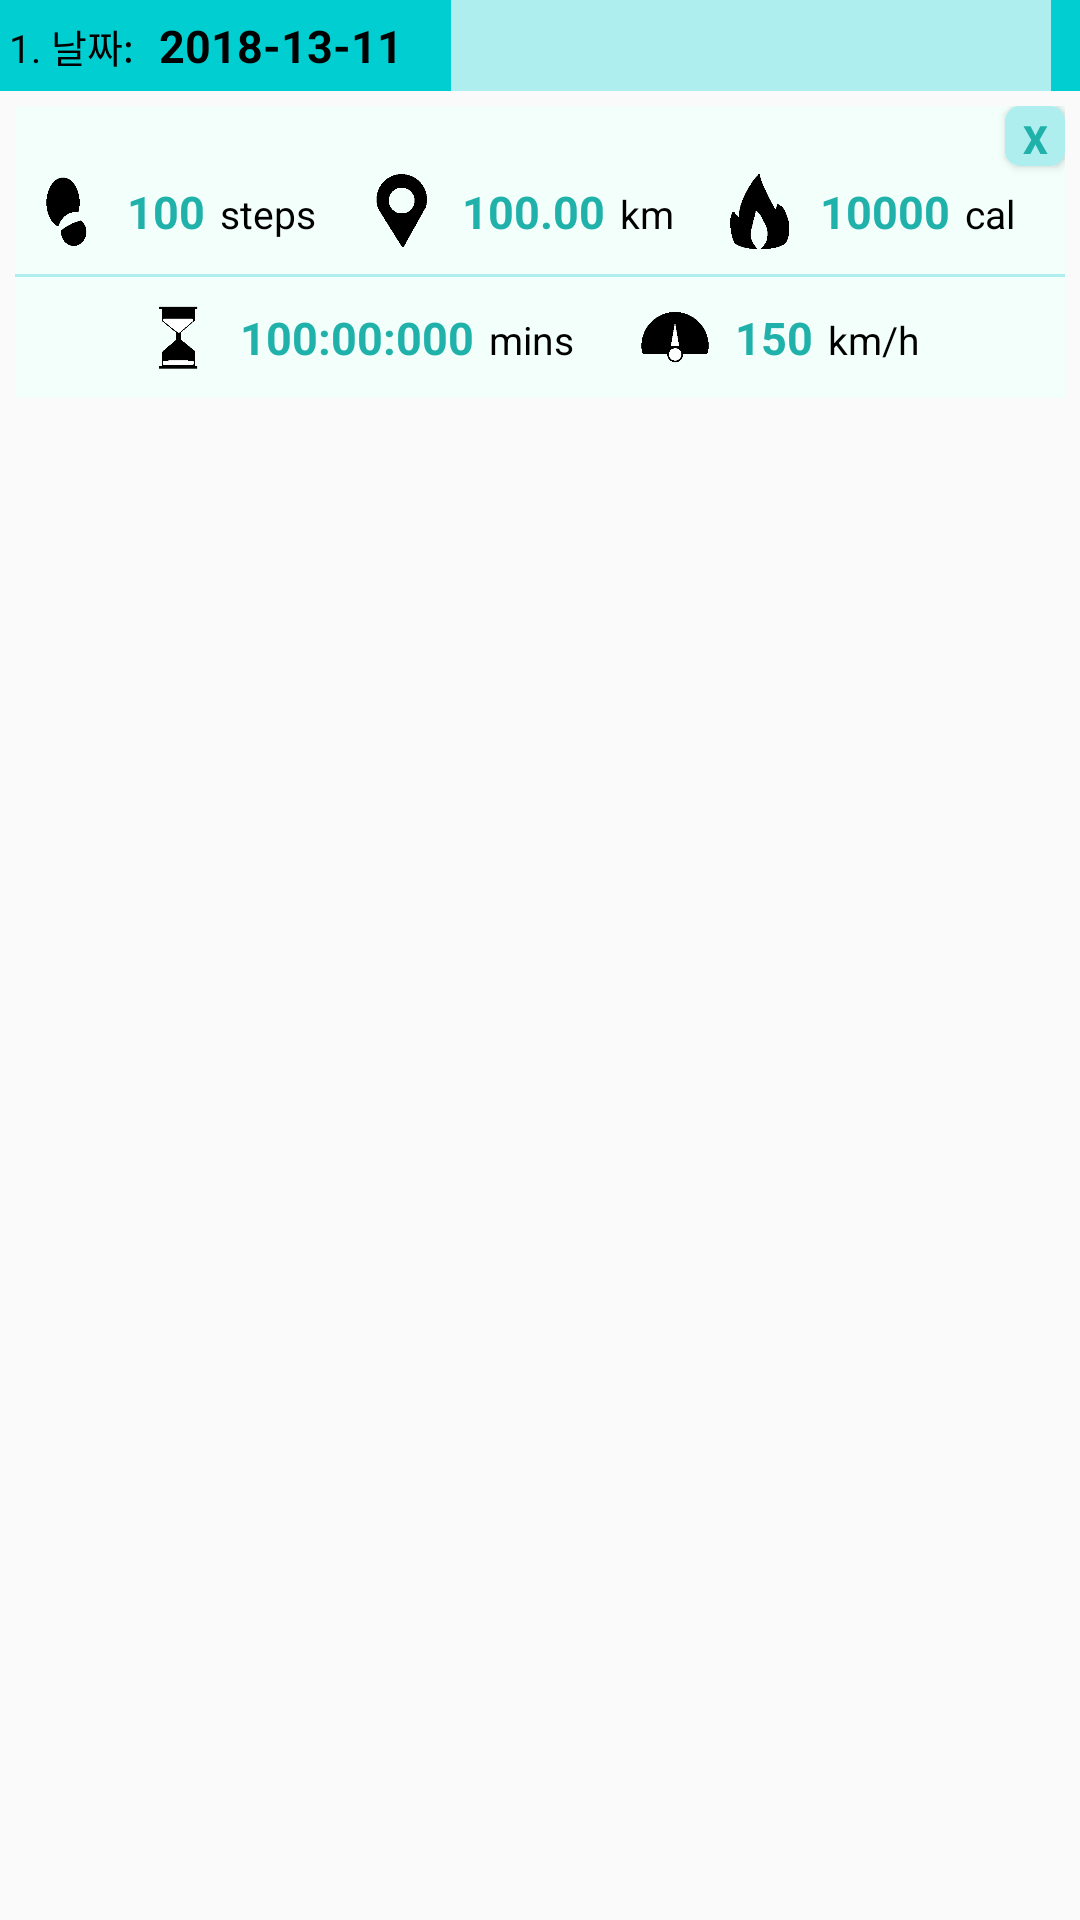

Icons on this 1080x1920 Android screen, each with the point to tap as (x,y):
iconcalorie: (759,211)
icondistance: (401,210)
iconpedometer: (66,211)
iconspeed: (675,337)
icontime: (178,337)
